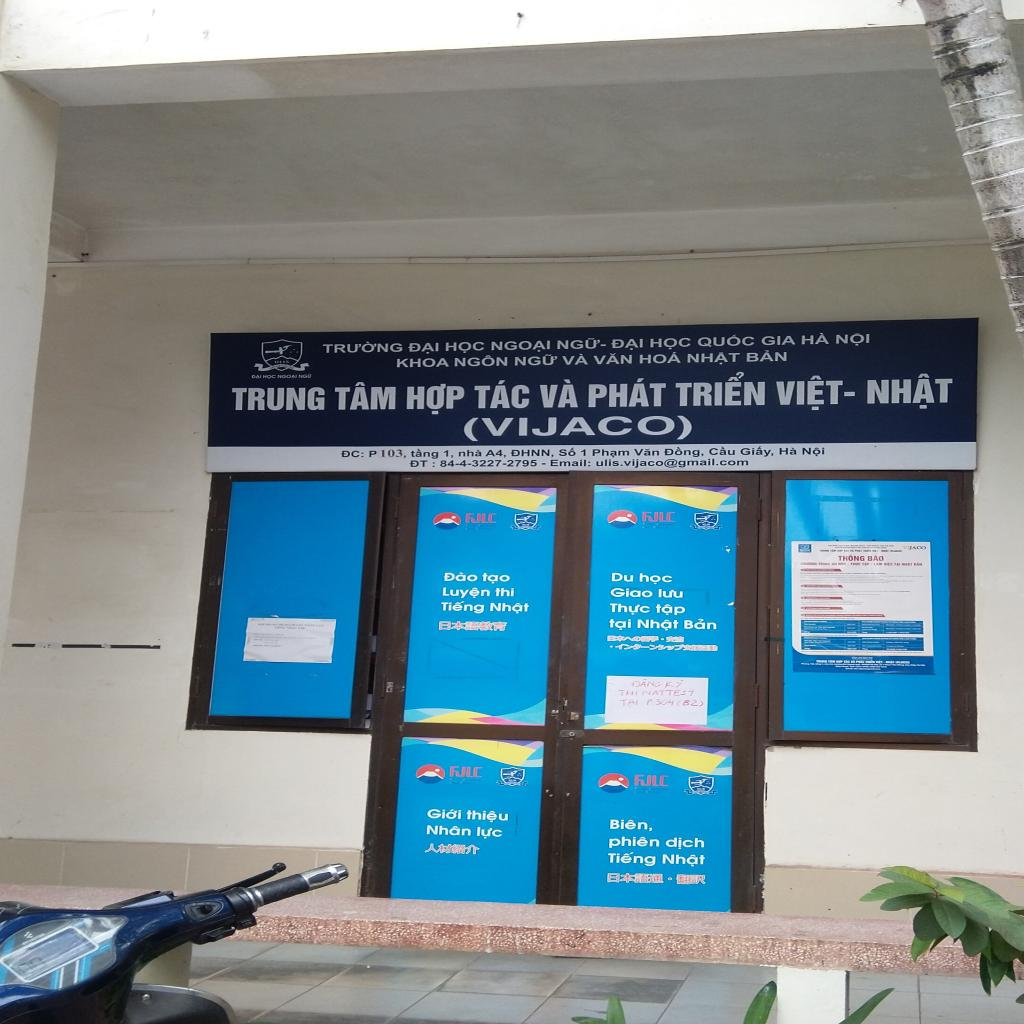text: (461, 412, 696, 443), (864, 371, 958, 413), (674, 370, 768, 408), (582, 377, 669, 410), (772, 375, 844, 412), (228, 387, 328, 412), (404, 383, 465, 415), (332, 382, 398, 411), (472, 378, 531, 410), (594, 458, 751, 468), (538, 377, 584, 410), (320, 341, 404, 355), (439, 459, 539, 469), (698, 333, 756, 349), (685, 351, 742, 366), (607, 851, 657, 868), (452, 354, 510, 368), (488, 340, 552, 352), (440, 600, 486, 616), (608, 817, 654, 833), (464, 808, 509, 824), (607, 836, 662, 849), (441, 586, 492, 600), (425, 823, 472, 838), (662, 853, 708, 868), (395, 357, 451, 369), (745, 349, 789, 364), (638, 351, 684, 365), (488, 600, 530, 615), (447, 763, 486, 779), (648, 336, 692, 350), (608, 602, 652, 616), (636, 618, 680, 632), (555, 337, 602, 350), (664, 836, 707, 850), (632, 773, 672, 788), (444, 340, 485, 354), (638, 571, 676, 586), (654, 602, 688, 618), (610, 586, 655, 598), (593, 352, 634, 365), (761, 334, 799, 348), (514, 354, 558, 366), (662, 445, 706, 457), (835, 332, 872, 346), (426, 807, 463, 821), (510, 447, 555, 458), (798, 332, 833, 346), (611, 337, 645, 351), (684, 618, 718, 632), (406, 341, 442, 354), (641, 689, 698, 697), (475, 825, 504, 840), (739, 446, 775, 458), (464, 512, 500, 524), (642, 510, 678, 522), (443, 570, 479, 582), (592, 447, 631, 458), (482, 571, 512, 585), (562, 353, 591, 366), (380, 447, 409, 460), (409, 448, 440, 460), (607, 618, 634, 631), (707, 445, 736, 457), (549, 459, 592, 467), (630, 678, 664, 688), (610, 571, 636, 584), (657, 587, 685, 599), (675, 698, 705, 709), (632, 446, 661, 456), (409, 459, 438, 469), (802, 446, 826, 457), (494, 586, 516, 598), (340, 449, 365, 459), (483, 448, 507, 458), (557, 446, 577, 458), (837, 554, 867, 562), (618, 698, 641, 708), (778, 445, 798, 456), (664, 678, 686, 688), (458, 448, 482, 457), (656, 698, 676, 707), (617, 689, 639, 697), (901, 545, 928, 551), (867, 554, 885, 562), (441, 448, 455, 458), (366, 449, 378, 459), (644, 697, 656, 707), (843, 390, 857, 398), (278, 374, 298, 379), (298, 373, 313, 379), (578, 448, 588, 457), (262, 374, 276, 380), (799, 562, 818, 566), (818, 561, 832, 566), (274, 360, 290, 364), (251, 374, 263, 379), (850, 562, 862, 566), (873, 562, 885, 566), (902, 562, 914, 566), (838, 562, 848, 566), (884, 562, 894, 566), (913, 562, 923, 566), (666, 876, 673, 881), (540, 461, 548, 465), (862, 562, 870, 566), (894, 562, 902, 566), (600, 343, 607, 347), (831, 562, 838, 566), (607, 645, 614, 648), (660, 638, 665, 641), (847, 564, 851, 565), (871, 564, 873, 565)
